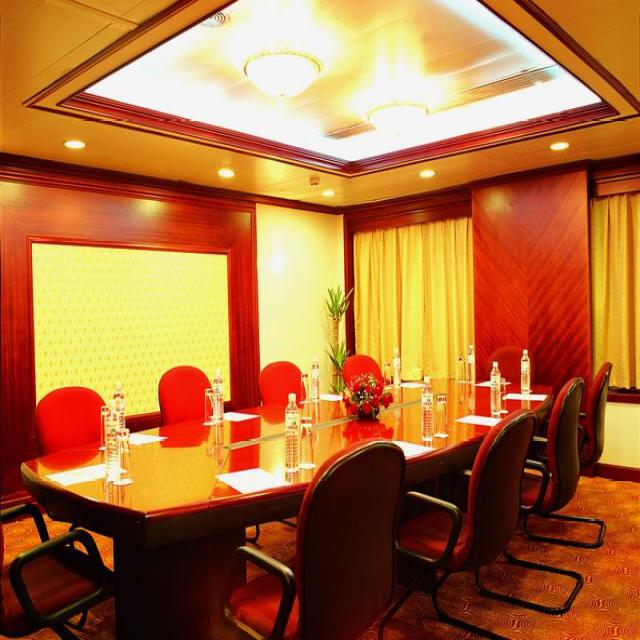ceiling beam: (2, 2, 640, 209)
ceiling vent: (242, 44, 329, 114), (365, 99, 434, 145), (59, 136, 94, 154), (214, 162, 239, 183), (548, 139, 574, 158), (417, 164, 441, 183), (318, 185, 342, 203)
chair -occluded-: (218, 436, 408, 637), (378, 408, 535, 637), (475, 374, 586, 615), (528, 359, 613, 550), (1, 501, 113, 637), (31, 382, 106, 446), (159, 362, 212, 421), (485, 337, 538, 379), (257, 360, 304, 396), (344, 350, 383, 381)
drapes: (354, 217, 473, 373), (589, 191, 636, 387)
floor -X: (2, 476, 640, 639)
flowers in pot: (340, 377, 395, 422)
glass ceiling: (434, 391, 452, 438), (301, 416, 316, 469), (457, 355, 466, 381)
paper cup with straws: (210, 462, 292, 496), (42, 461, 103, 489), (394, 436, 438, 461), (124, 429, 171, 449), (454, 411, 500, 425), (220, 411, 262, 426), (508, 387, 547, 403), (321, 390, 343, 401)
plant -x: (325, 282, 351, 386)
smoke detector: (305, 174, 321, 187)
table -X: (22, 377, 554, 635)
vent -x: (195, 11, 234, 32)
wall clock: (2, 158, 638, 523)
water bottle: (104, 377, 133, 491), (282, 391, 301, 474), (204, 360, 224, 429), (417, 375, 433, 439), (301, 354, 321, 404), (488, 356, 505, 412), (391, 344, 401, 389), (466, 344, 473, 382)
water bottles: (518, 342, 534, 409)
